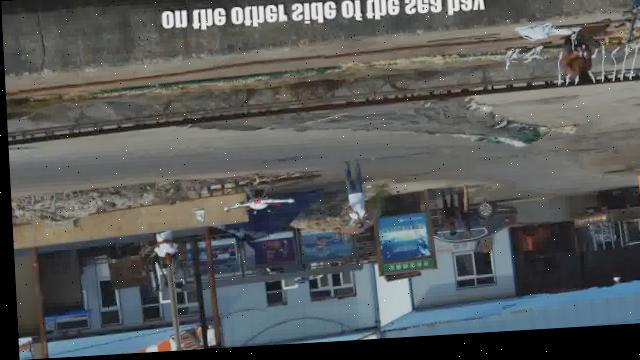drone: (218, 191, 291, 222)
